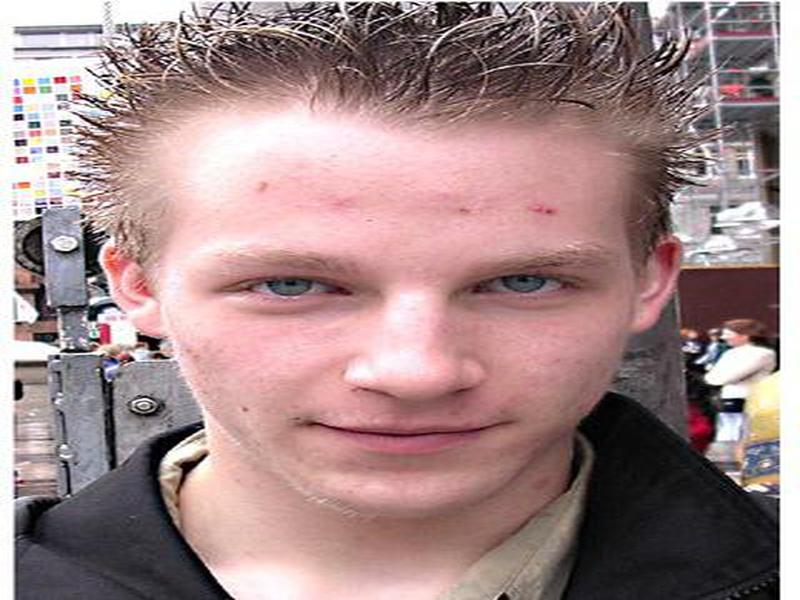without_mask: (153, 108, 623, 514)
